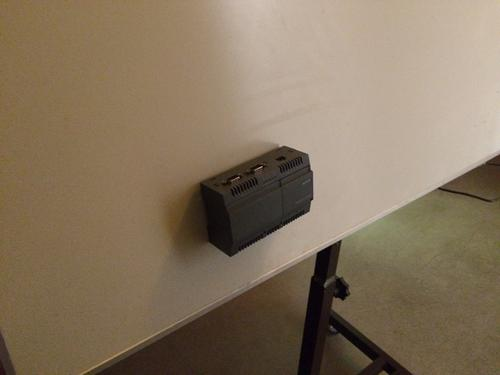iot2000: (198, 144, 314, 257)
